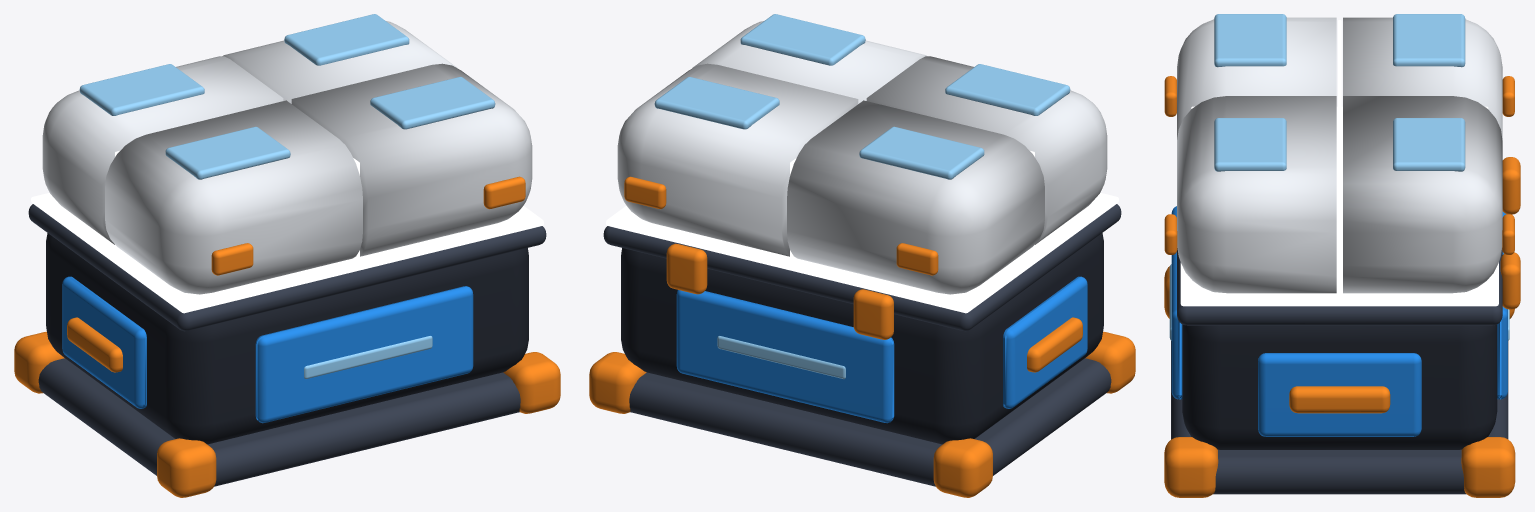
3 renders of one model, left to right at view 1: azimuth 30°, elevation 25°; view 2: azimuth 150°, elevation 25°; view 3: azimuth 270°, elevation 25°, orthographic. The views are drawn at different scales.
Parts seen in each view (by area): view 1: crate_body, lid_sw, lid_se, lid_nw, lid_ne, seam_glow; view 2: crate_body, lid_nw, lid_ne, lid_sw, lid_se, seam_glow; view 3: crate_body, lid_se, lid_ne, lid_sw, lid_nw, seam_glow.
Boxes of the visible parts, x1,y1,x2,y2 form: crate_body: [14, 204, 560, 497]; lid_sw: [105, 100, 362, 294]; lid_se: [291, 63, 532, 256]; lid_nw: [42, 56, 283, 244]; lid_ne: [222, 14, 457, 103]; seam_glow: [31, 68, 543, 313]; crate_body: [589, 204, 1135, 497]; lid_nw: [787, 100, 1044, 294]; lid_ne: [617, 63, 858, 256]; lid_sw: [866, 56, 1107, 244]; lid_se: [692, 14, 927, 103]; seam_glow: [606, 68, 1118, 313]; crate_body: [1164, 157, 1520, 497]; lid_se: [1164, 96, 1336, 293]; lid_ne: [1343, 96, 1514, 293]; lid_sw: [1164, 14, 1336, 139]; lid_nw: [1343, 14, 1514, 139]; seam_glow: [1180, 20, 1498, 306].
Bounding box in the file's own units: 1.06 × 0.776 × 0.792.
